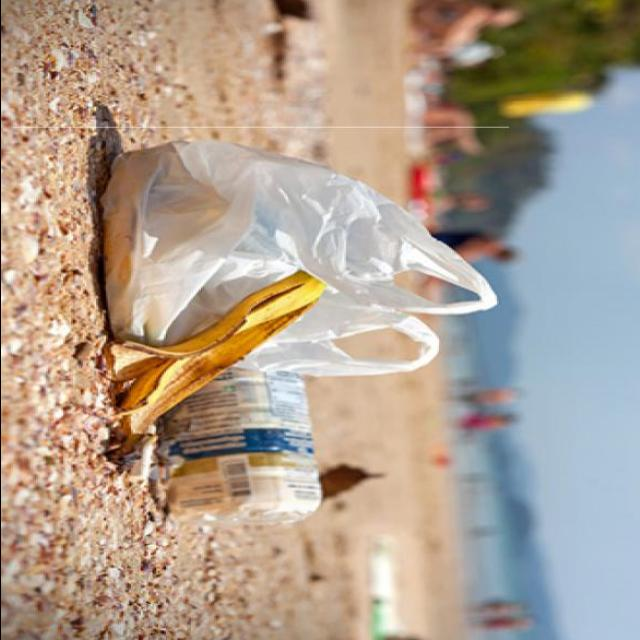plastik: (101, 141, 496, 376)
